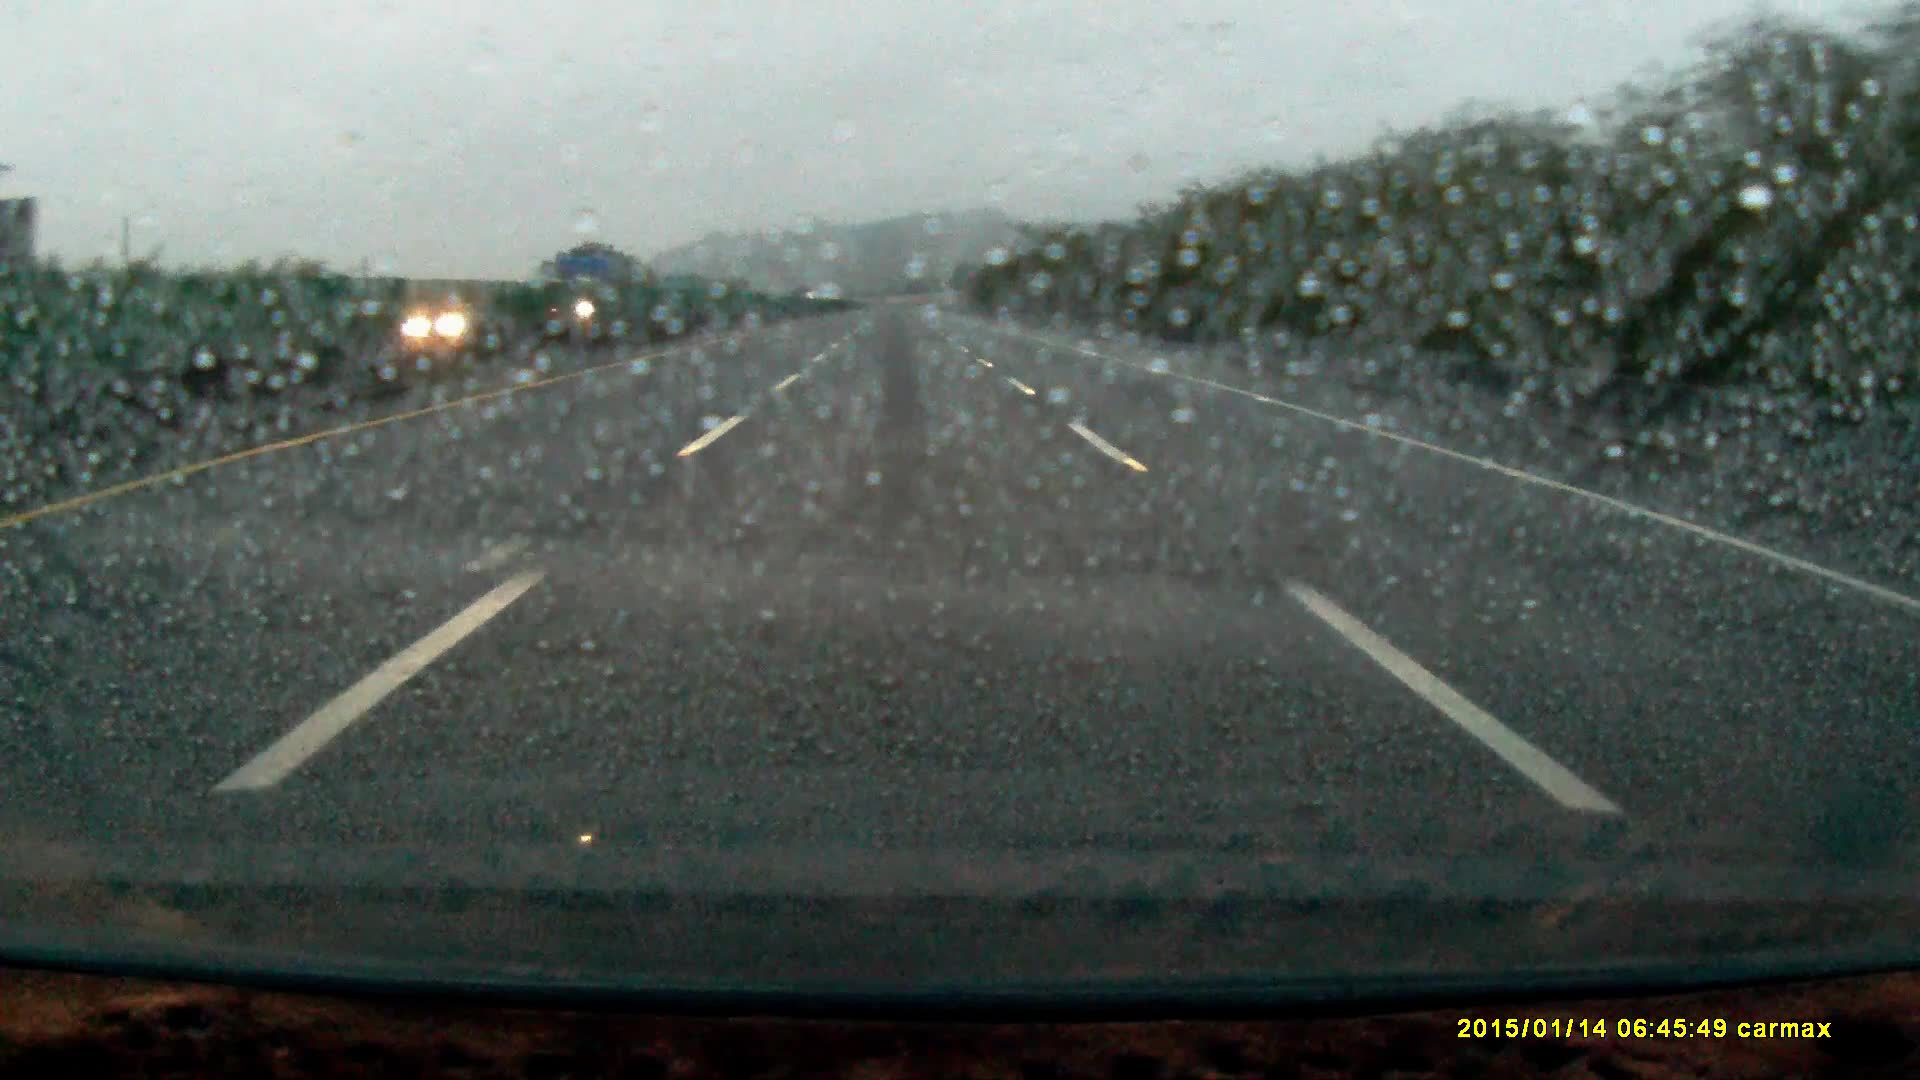vehicle: (411, 301, 491, 334)
